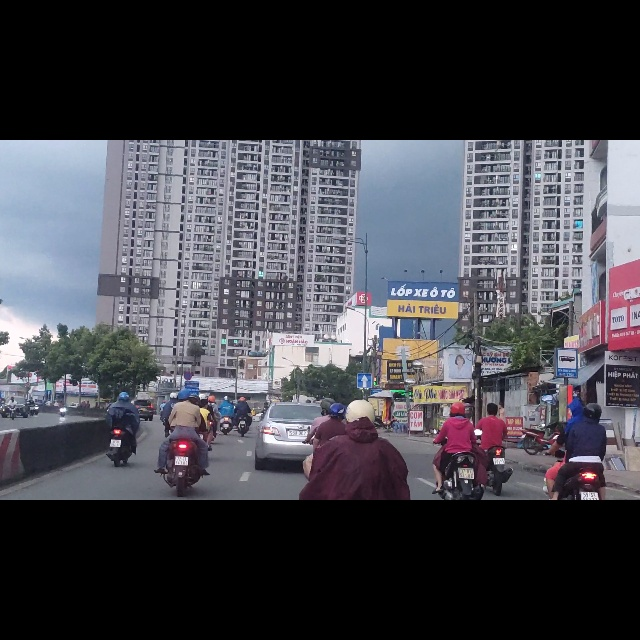bien_chi_dan: (555, 368, 578, 423), (357, 414, 372, 440)
